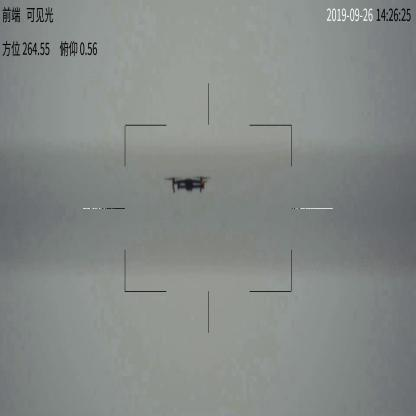uav: (164, 174, 214, 194)
